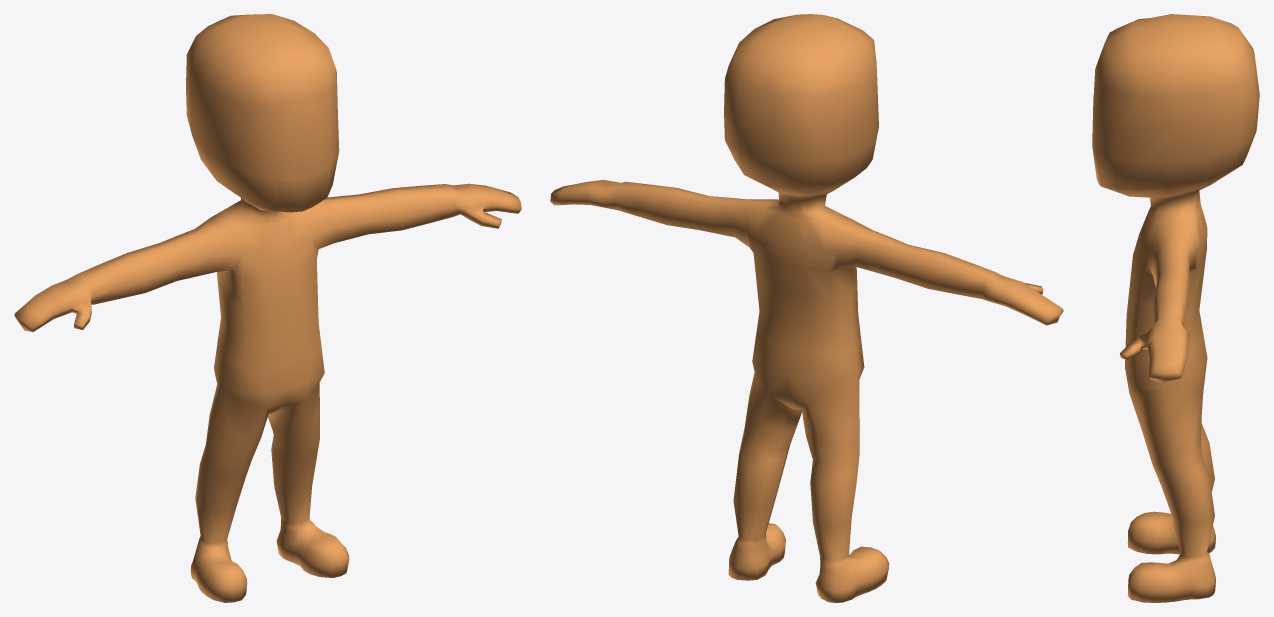
Rendered from character.fbx.
3 renders of one model, left to right at view 1: azimuth 30°, elevation 25°; view 2: azimuth 150°, elevation 25°; view 3: azimuth 270°, elevation 25°, orthographic.
Visible parts, largest first — view 1: characterMedium; view 2: characterMedium; view 3: characterMedium.
Part boxes in pixels (x1=…): characterMedium: x1=14, y1=14, x2=521, y2=602; characterMedium: x1=550, y1=14, x2=1063, y2=602; characterMedium: x1=1092, y1=14, x2=1259, y2=602.
Size of the model in its own units: 362 by 376 by 105.
